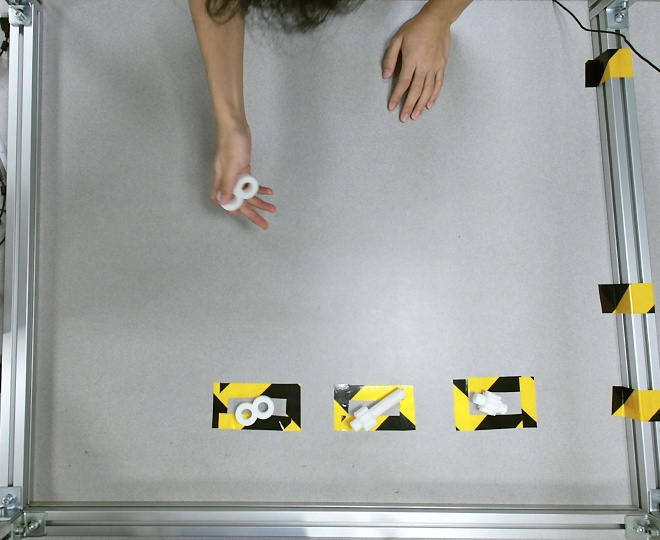stage_1: (216, 173, 258, 212)
